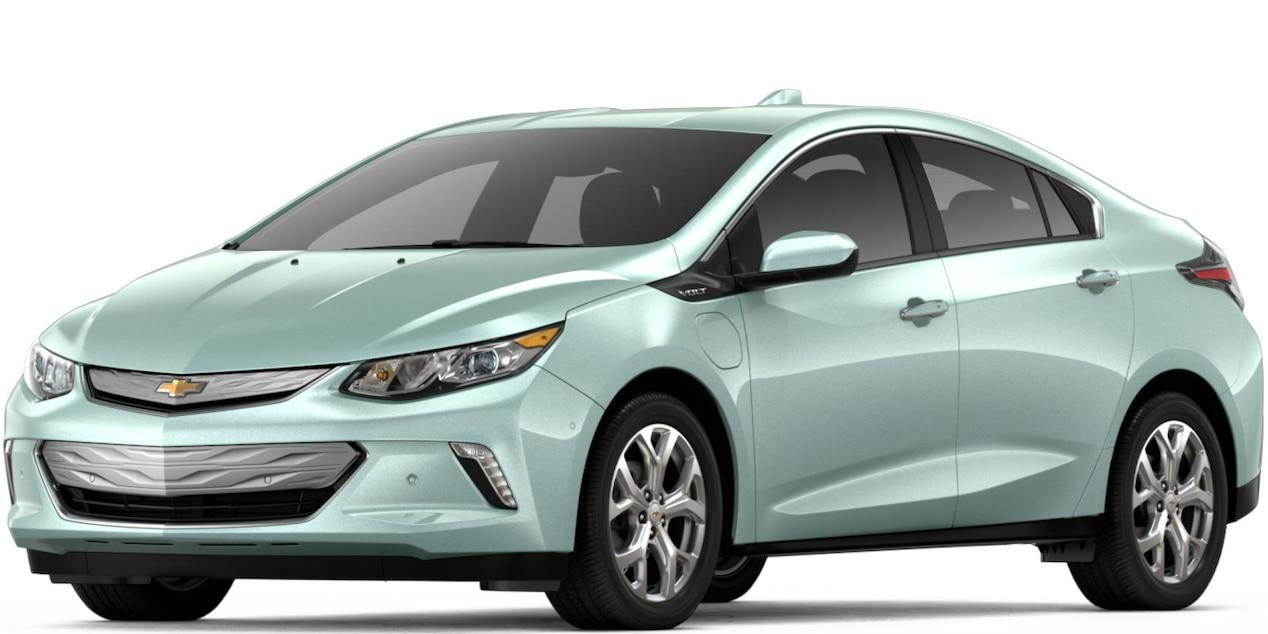car: (6, 73, 1253, 634)
